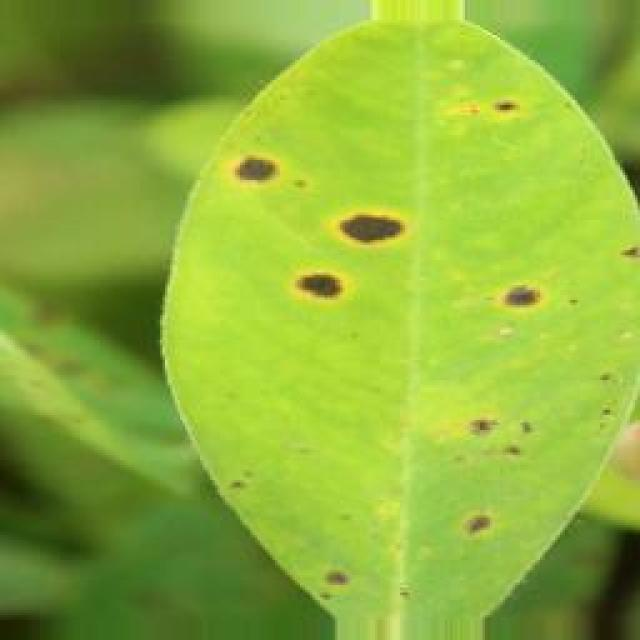Early_leaf_spot: (286, 181, 432, 313), (232, 544, 392, 620), (425, 475, 535, 573), (484, 86, 594, 174), (463, 380, 555, 470), (493, 252, 586, 320), (573, 341, 638, 432), (240, 129, 300, 196), (610, 220, 640, 302)
